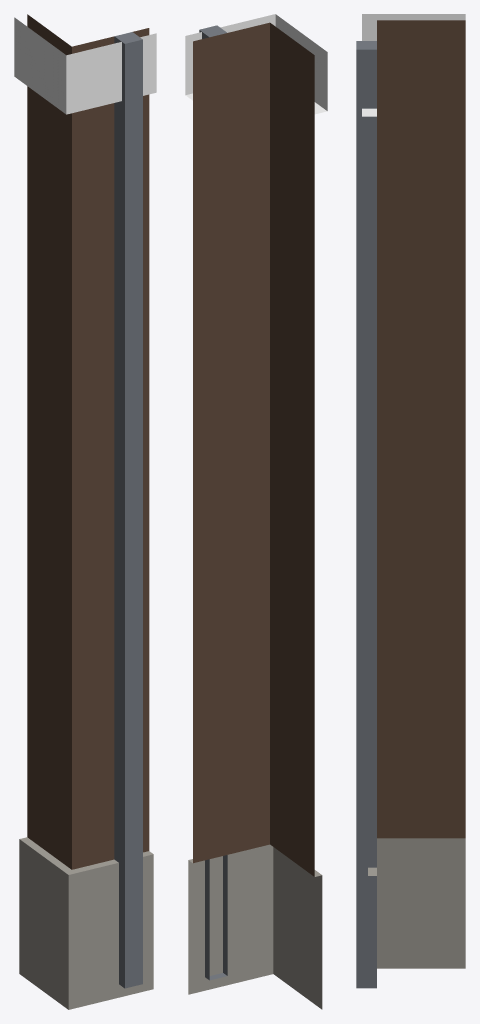
3 views of the same model, side by side, from view 1: azimuth 30°, elevation 25°; view 2: azimuth 210°, elevation 25°; view 3: azimuth 270°, elevation 25° (orthographic).
Parts seen in each view (by area): view 1: a2000s3/800/base-c1; view 2: a2000s3/800/base-c1; view 3: a2000s3/800/base-c1.
Boxes of the visible parts, bbox=[...] form: a2000s3/800/base-c1: bbox=[14, 14, 156, 1009]; a2000s3/800/base-c1: bbox=[185, 14, 327, 1009]; a2000s3/800/base-c1: bbox=[356, 14, 465, 988].
Bounding box in the file's own units: 0.35 × 3.55 × 0.37.
